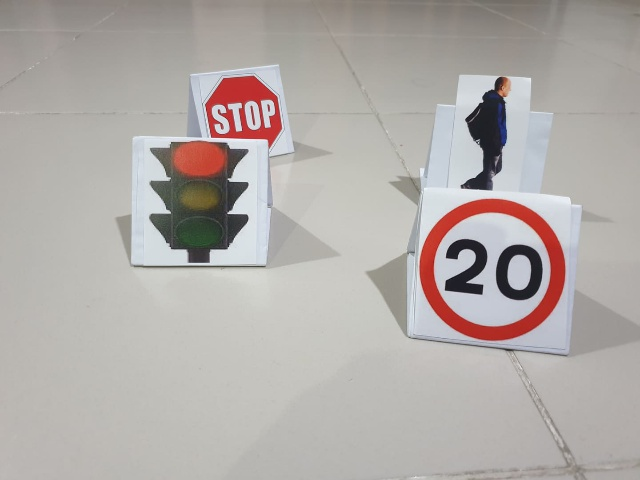Limit 20: (419, 197, 572, 347)
Person: (458, 74, 518, 193)
Red: (141, 138, 252, 266)
Stop: (199, 70, 285, 142)
